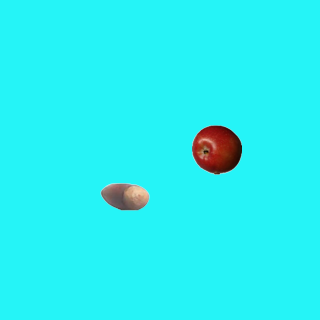Apple Braeburn: (191, 124, 241, 174)
Hazelnut: (99, 171, 149, 221)
